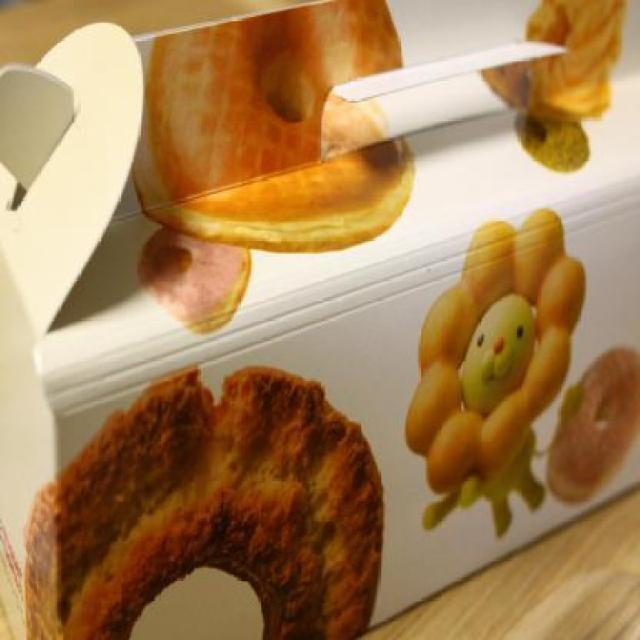Bagel: (23, 366, 389, 639), (135, 0, 415, 252), (544, 344, 638, 504), (138, 228, 252, 330)
